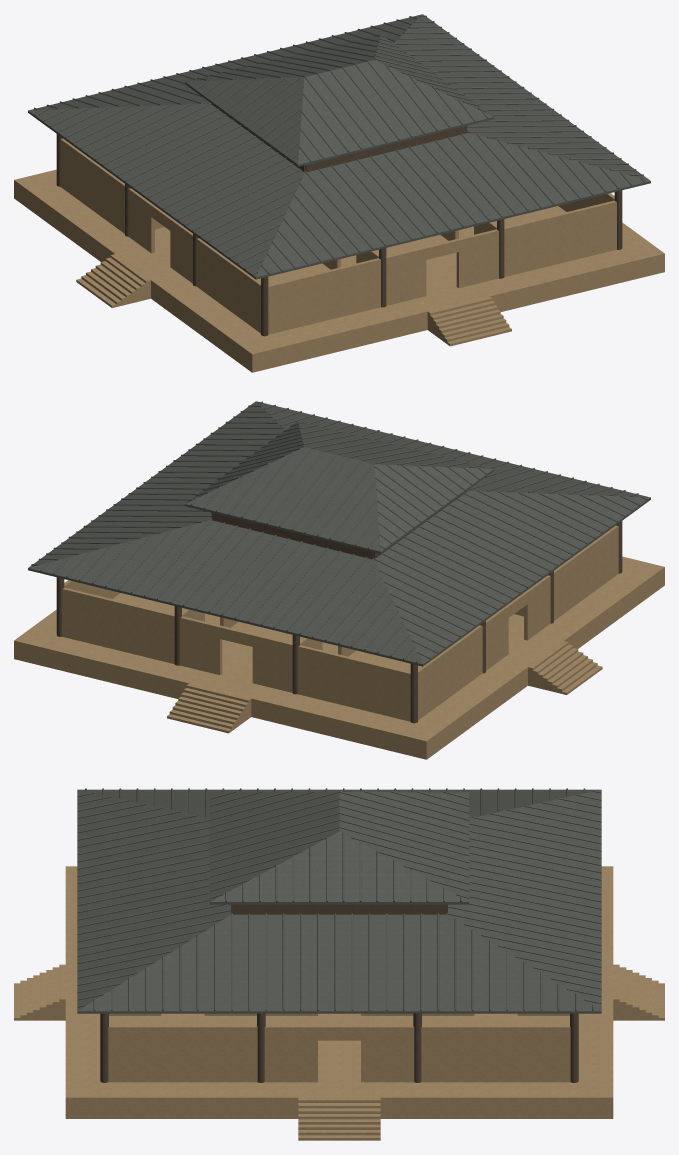
File: mingtang-A-LOD1.glb
The picture shows the model from 3 angles, top to bottom: view 1: azimuth 30°, elevation 25°; view 2: azimuth 150°, elevation 25°; view 3: azimuth 270°, elevation 25°; orthographic projection. The views are drawn at different scales.
Parts seen in each view (by area): view 1: mingtang-A-static_tile, mingtang-A-static_earth, mingtang-A-static_timber; view 2: mingtang-A-static_tile, mingtang-A-static_earth, mingtang-A-static_timber; view 3: mingtang-A-static_tile, mingtang-A-static_earth, mingtang-A-static_timber.
Boxes of the visible parts, x1=… form: mingtang-A-static_tile: x1=28, y1=14, x2=650, y2=279; mingtang-A-static_earth: x1=14, y1=138, x2=664, y2=372; mingtang-A-static_timber: x1=56, y1=104, x2=622, y2=336; mingtang-A-static_tile: x1=28, y1=401, x2=650, y2=666; mingtang-A-static_earth: x1=14, y1=525, x2=664, y2=759; mingtang-A-static_timber: x1=56, y1=491, x2=622, y2=723; mingtang-A-static_tile: x1=77, y1=788, x2=601, y2=1013; mingtang-A-static_earth: x1=14, y1=866, x2=664, y2=1140; mingtang-A-static_timber: x1=100, y1=904, x2=578, y2=1082.
Size of the model in its own units: 33.28 by 10.88 by 33.28.
3 materials, 3 textured.
